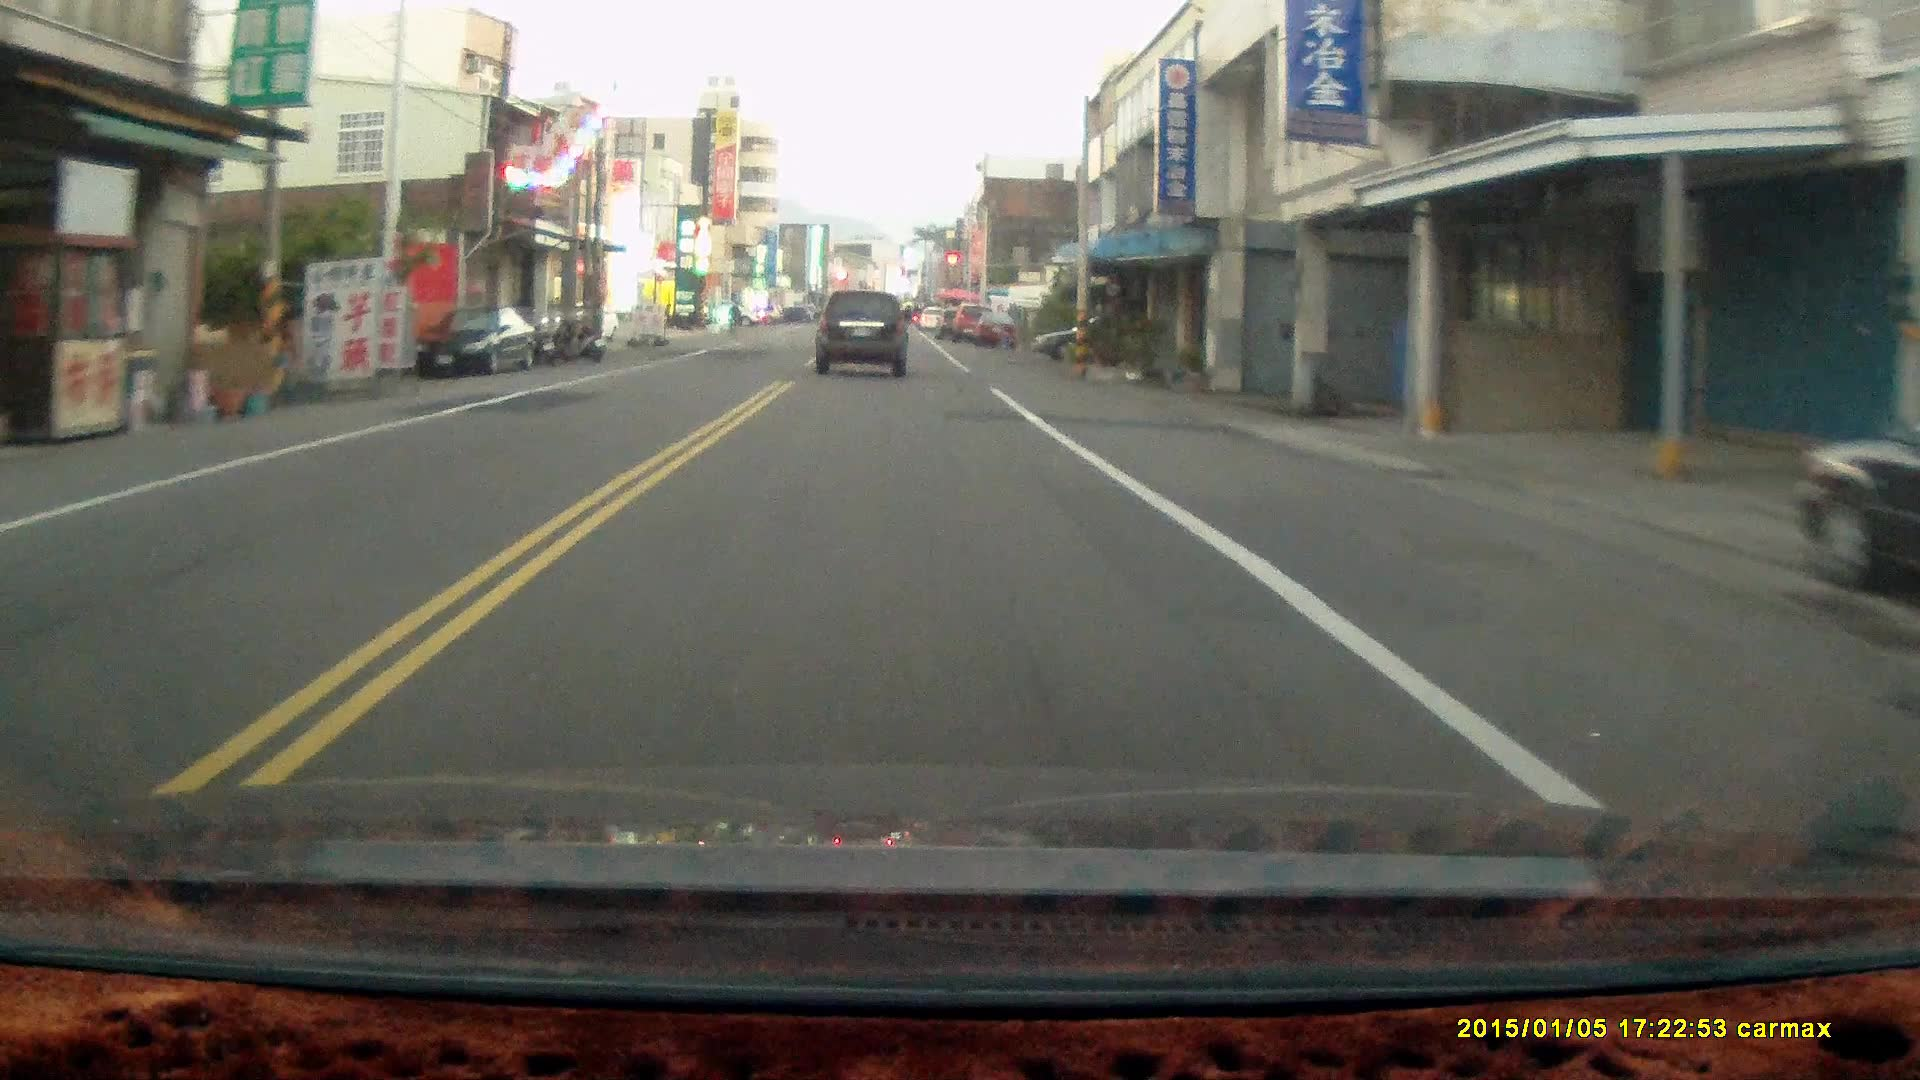vehicle: (1791, 367, 1920, 605), (414, 301, 541, 376), (816, 289, 910, 378)
